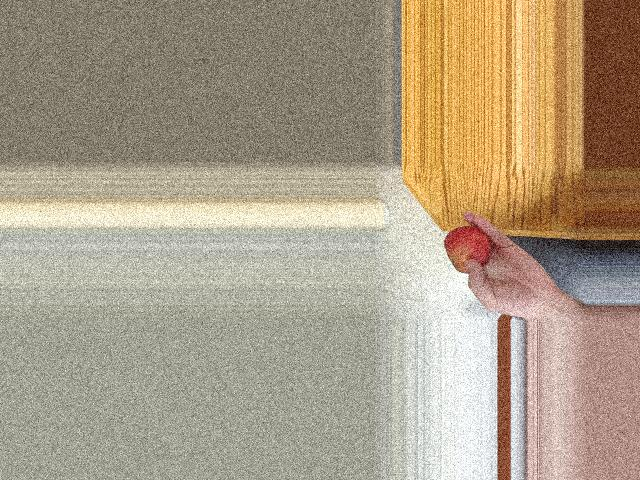apple: (442, 225, 494, 279)
